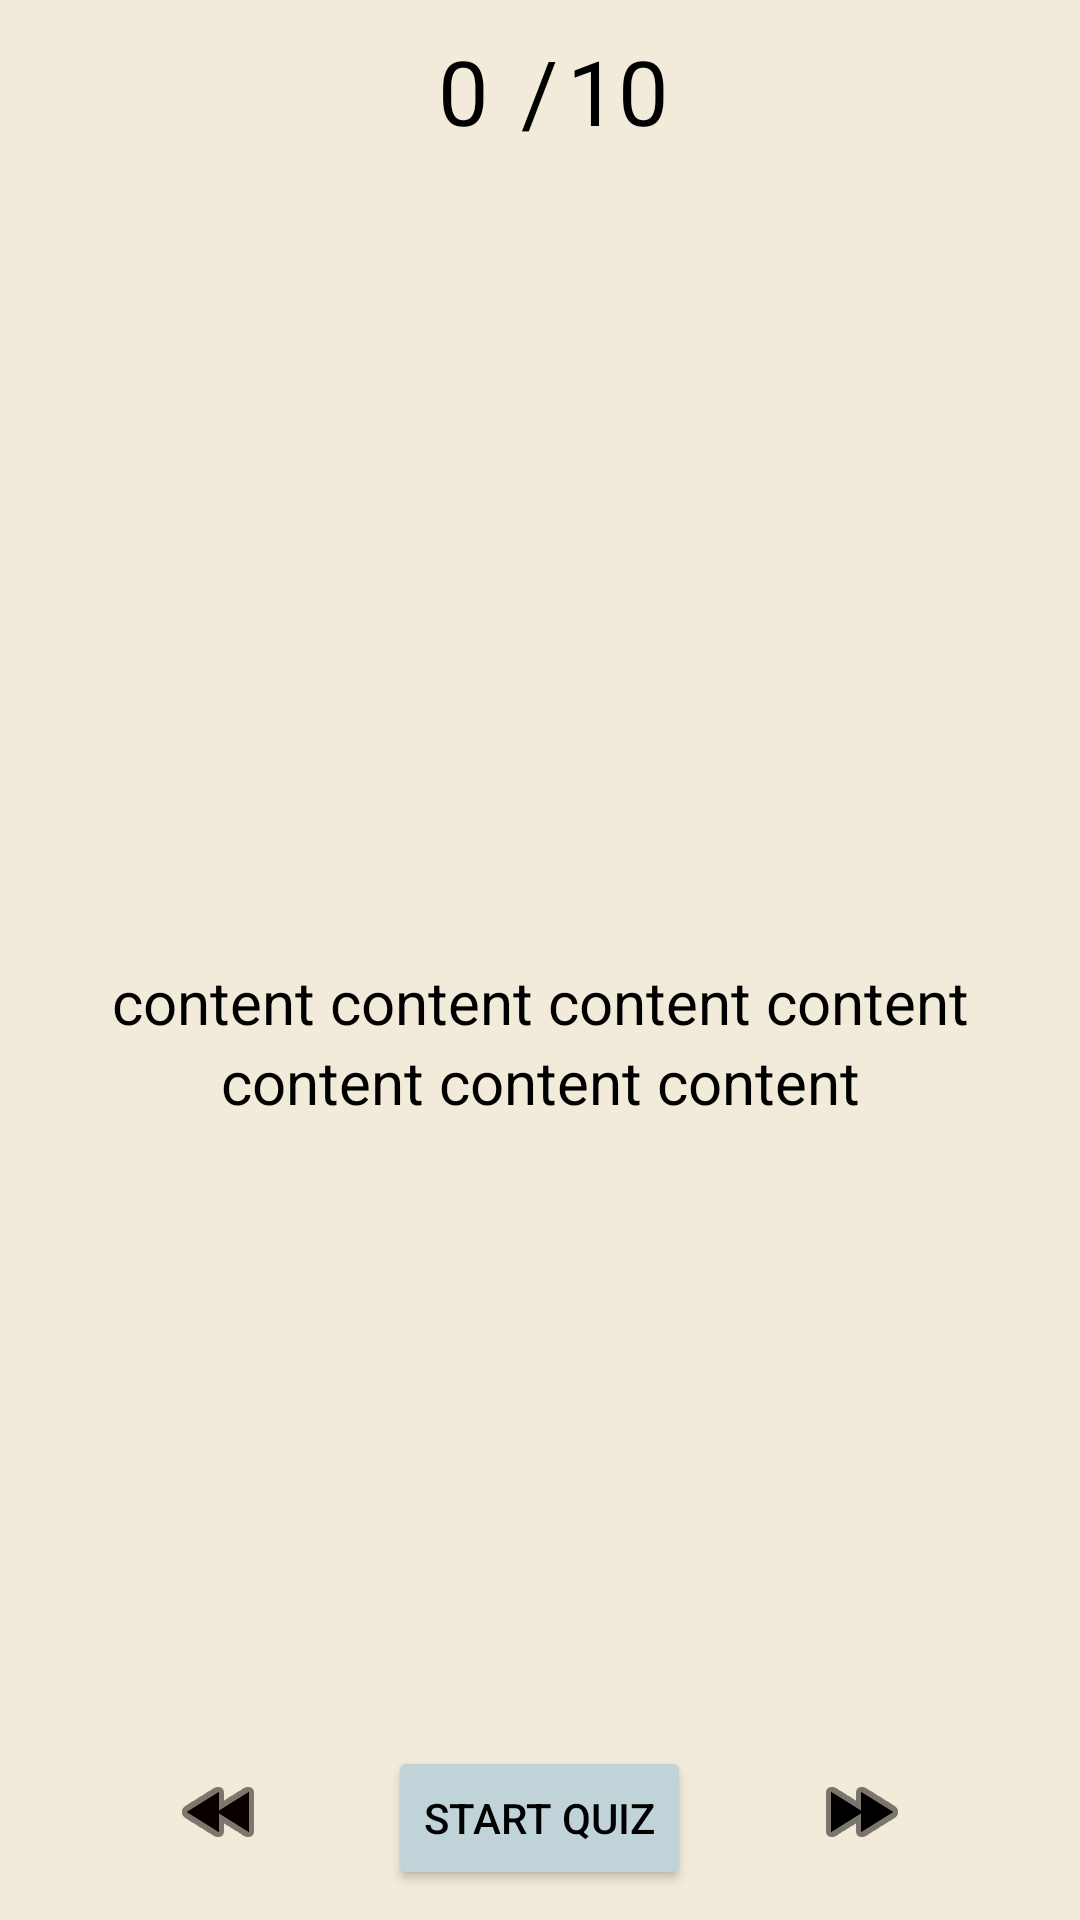

Screen size 1080x1920. Icon name, then its box in pixels as (x1, y1, x2, y2):
rew: (182, 1787, 254, 1837)
